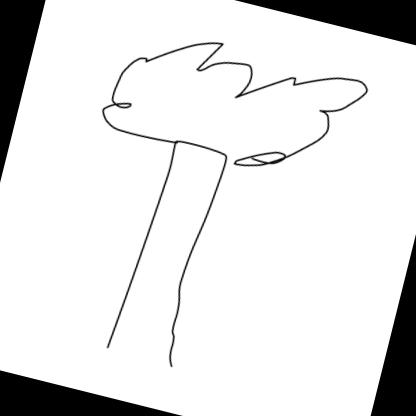trunk_straight: (114, 179, 216, 341)
